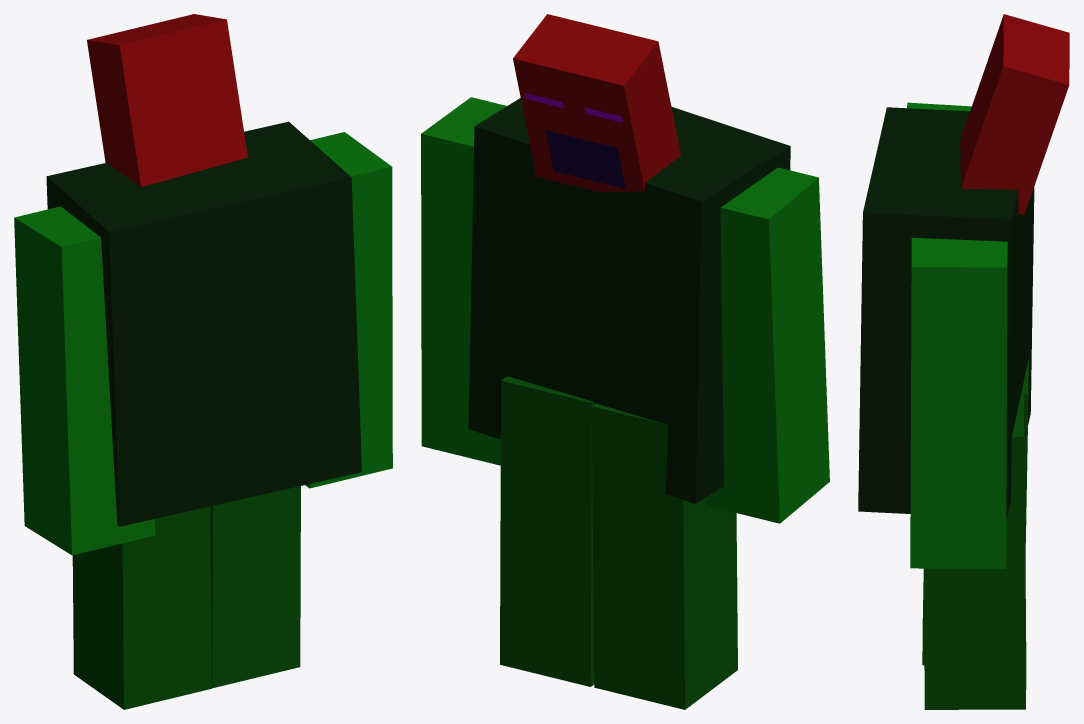
The model's file is walk_000014.obj.
The picture shows the model from 3 angles, left to right: view 1: azimuth 30°, elevation 25°; view 2: azimuth 150°, elevation 25°; view 3: azimuth 270°, elevation 25°; orthographic projection. The views are drawn at different scales.
Parts seen in each view (by area): view 1: Cube, leg.003_Cube.002, leg_Cube.001, Cube.001_Cube.003, leg.001_Cube.007, leg.002_Cube.006; view 2: Cube, leg_Cube.001, leg.003_Cube.002, leg.001_Cube.007, Cube.001_Cube.003, leg.002_Cube.006, Plane.002; view 3: Cube, leg.002_Cube.006, leg.001_Cube.007, Cube.001_Cube.003, leg_Cube.001, leg.003_Cube.002.
Part boxes in pixels (x1,y1,x2,y2): Cube: [46, 121, 361, 526]; leg.003_Cube.002: [14, 206, 155, 555]; leg_Cube.001: [72, 506, 211, 709]; Cube.001_Cube.003: [87, 14, 247, 186]; leg.001_Cube.007: [210, 486, 300, 688]; leg.002_Cube.006: [305, 132, 392, 488]; Cube: [468, 98, 790, 503]; leg_Cube.001: [591, 403, 737, 709]; leg.003_Cube.002: [707, 167, 829, 523]; leg.001_Cube.007: [500, 376, 594, 686]; Cube.001_Cube.003: [513, 14, 680, 192]; leg.002_Cube.006: [421, 97, 506, 465]; Plane.002: [545, 130, 625, 188]; Cube: [858, 107, 1034, 518]; leg.002_Cube.006: [910, 237, 1007, 568]; leg.001_Cube.007: [923, 394, 1026, 709]; Cube.001_Cube.003: [960, 14, 1069, 215]; leg_Cube.001: [922, 358, 1028, 665]; leg.003_Cube.002: [907, 102, 971, 111].
Bounding box in the file's own units: 3.47 × 6.25 × 1.91.
